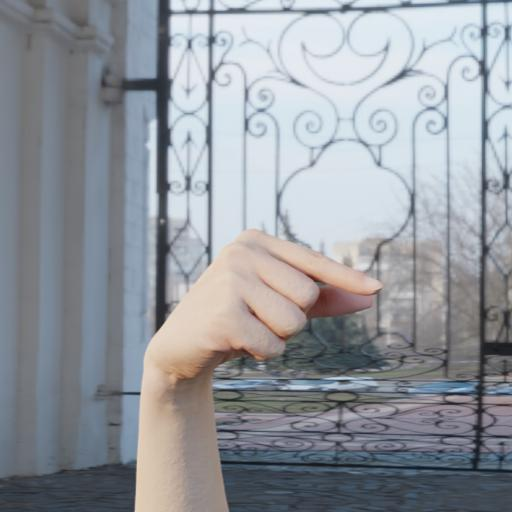G: (136, 191, 412, 460)
